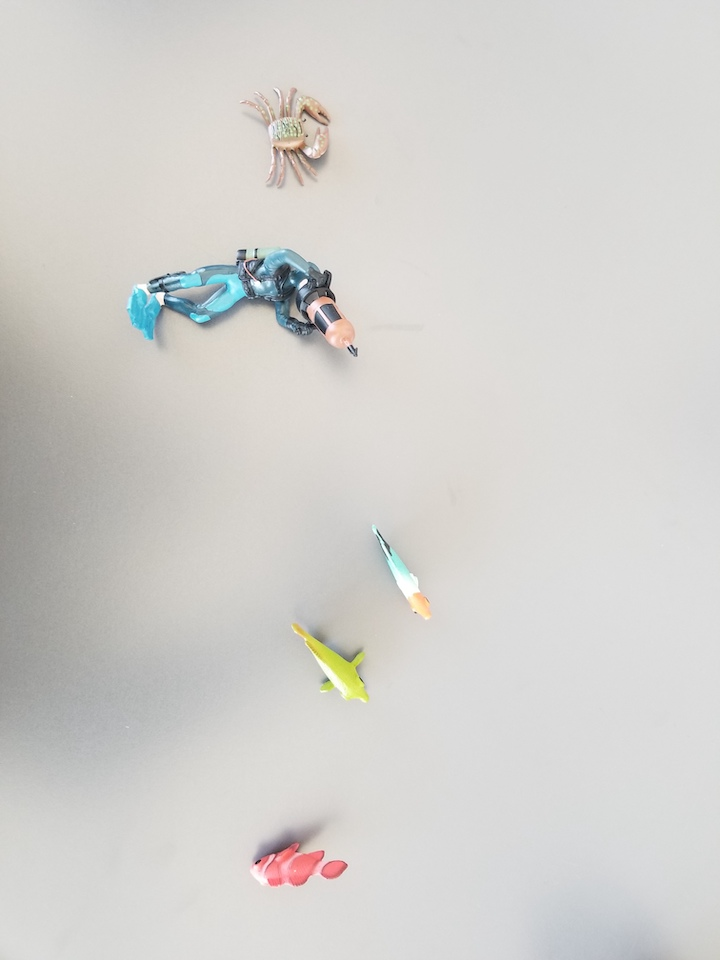crab: (239, 85, 334, 190)
diver: (120, 243, 363, 361)
fish: (284, 617, 373, 709), (367, 525, 435, 623), (245, 840, 352, 892)
